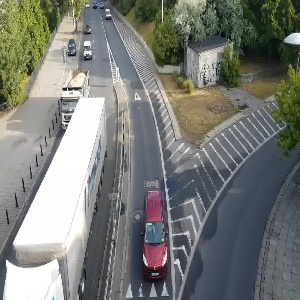van: (130, 183, 190, 290)
